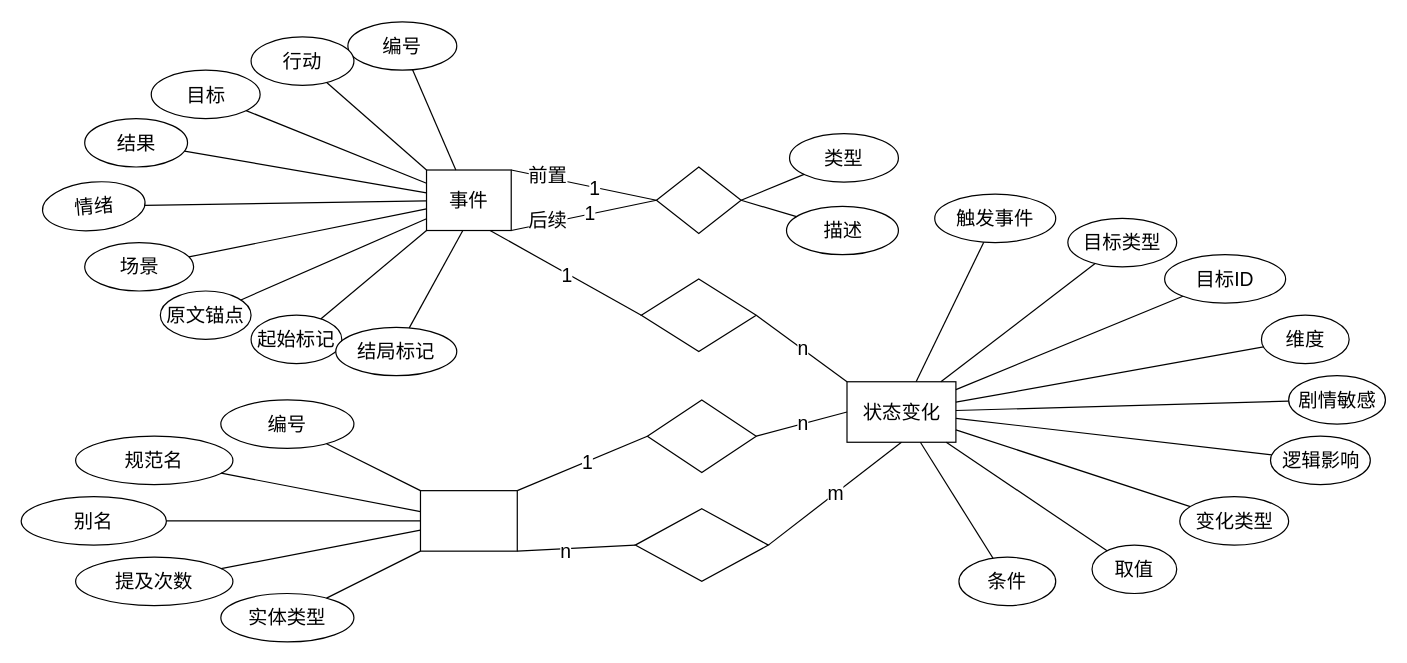
The diagram is 1407 pixels wide and 663 high, and some of its shapes have lost their labels. Each missing label, with the centre of its shape:
"事件关系" belongs at [698,200].
"内在状态" belongs at [701,436].
"角色" belongs at [468,520].
"角色间关系状态" belongs at [701,544].
"触发" belongs at [698,315].
